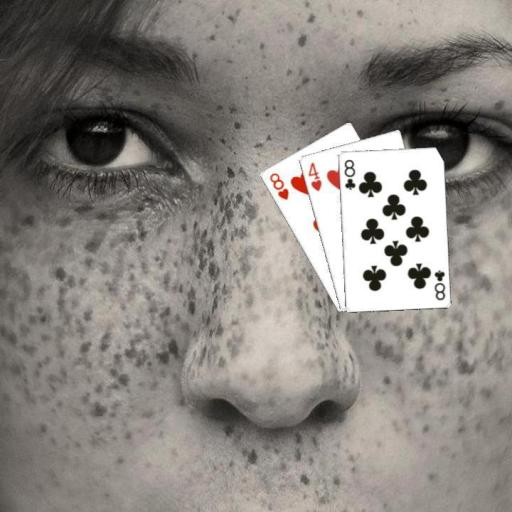card-corner: (266, 169, 290, 202), (304, 159, 323, 193), (431, 266, 447, 302), (341, 156, 357, 191)
